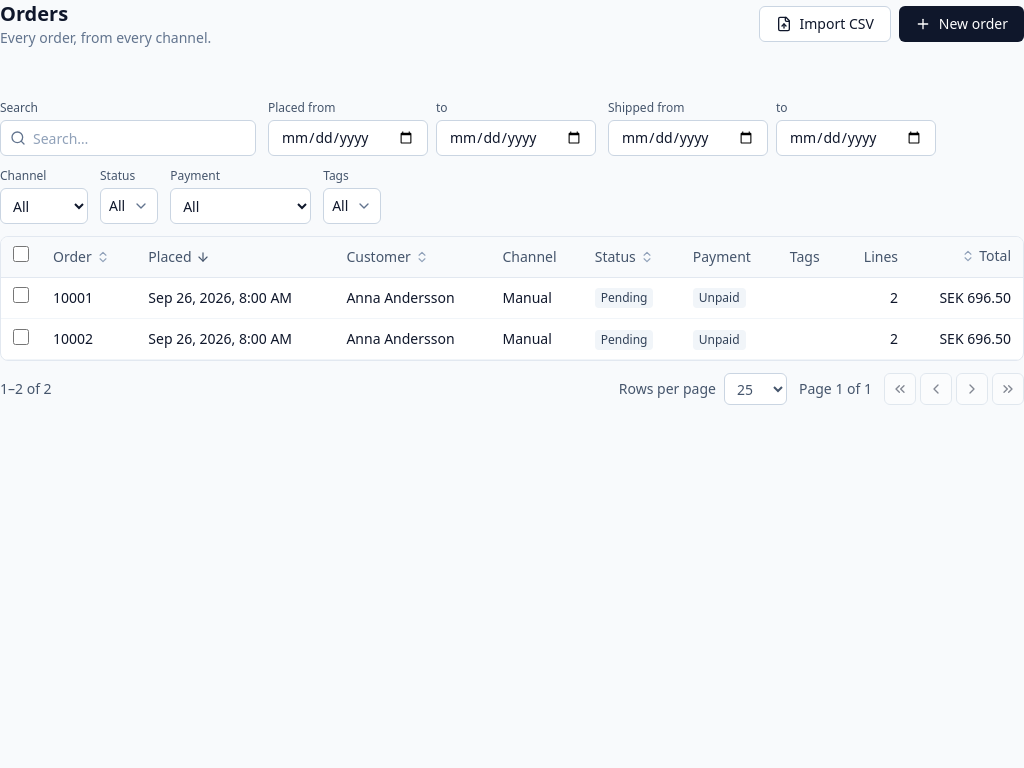
Test: the order list › tags the selected orders from the bulk-action bar
Expected: the link "10001" is shown, left=53, top=288, right=93, bottom=307
Click the checkbox named "10001": (21, 295) left=13, top=287, right=29, bottom=303
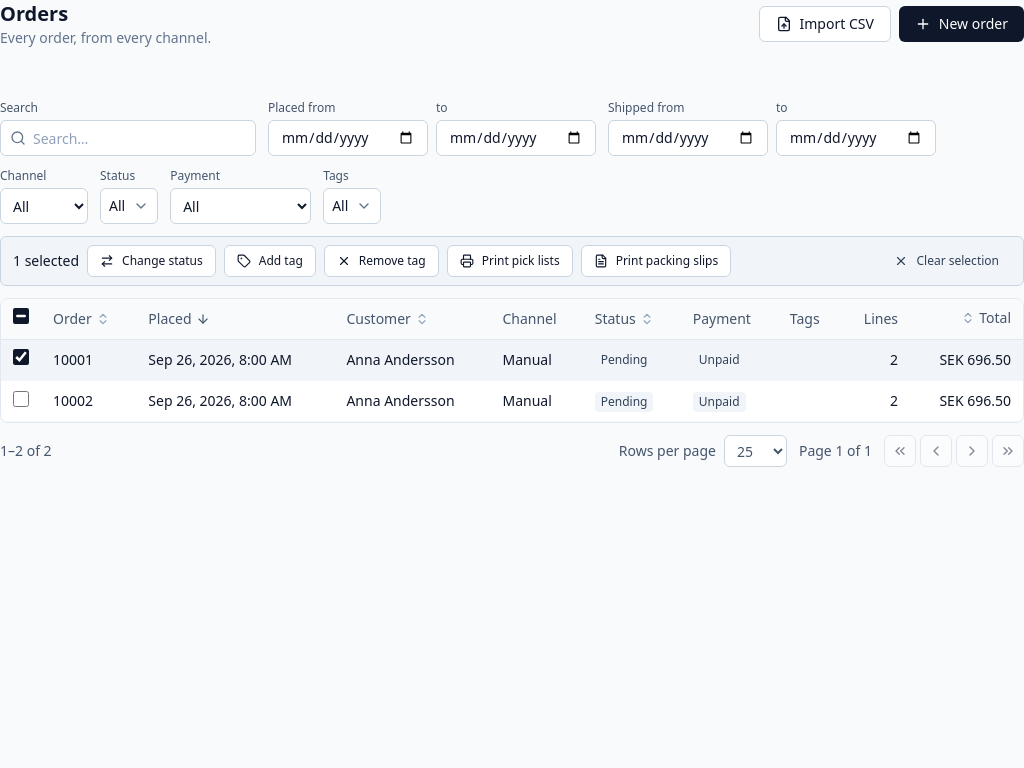
Click the checkbox named "10002": (21, 398) left=13, top=390, right=29, bottom=406
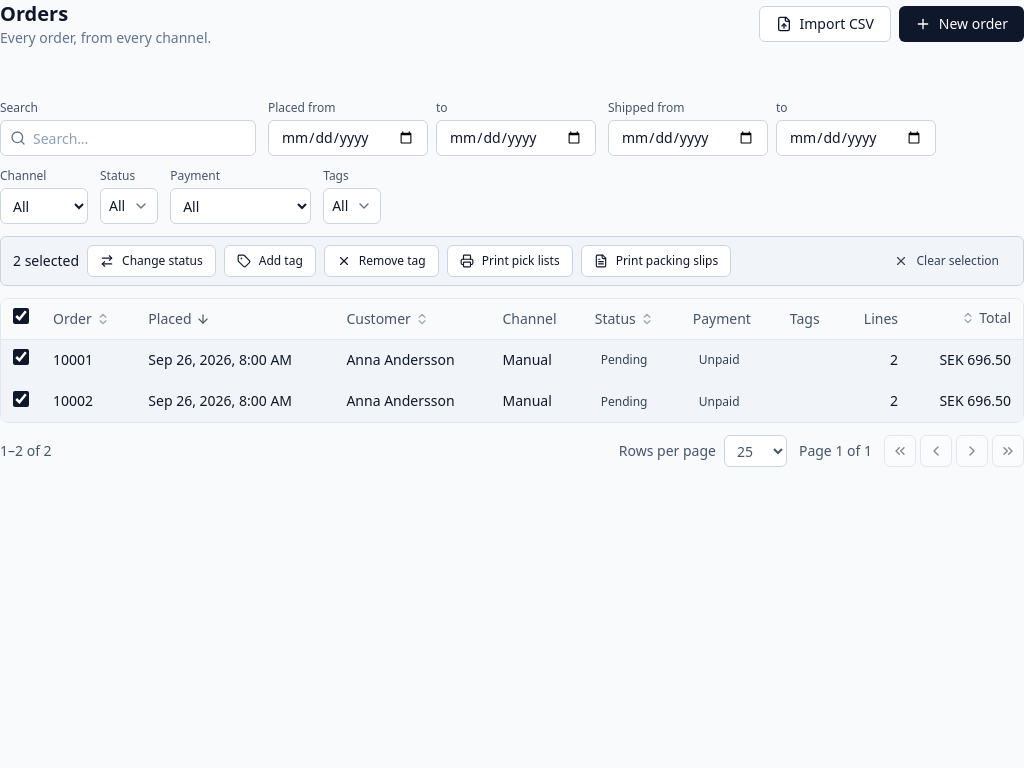
Click the button "Add tag": (270, 261) left=224, top=245, right=316, bottom=277
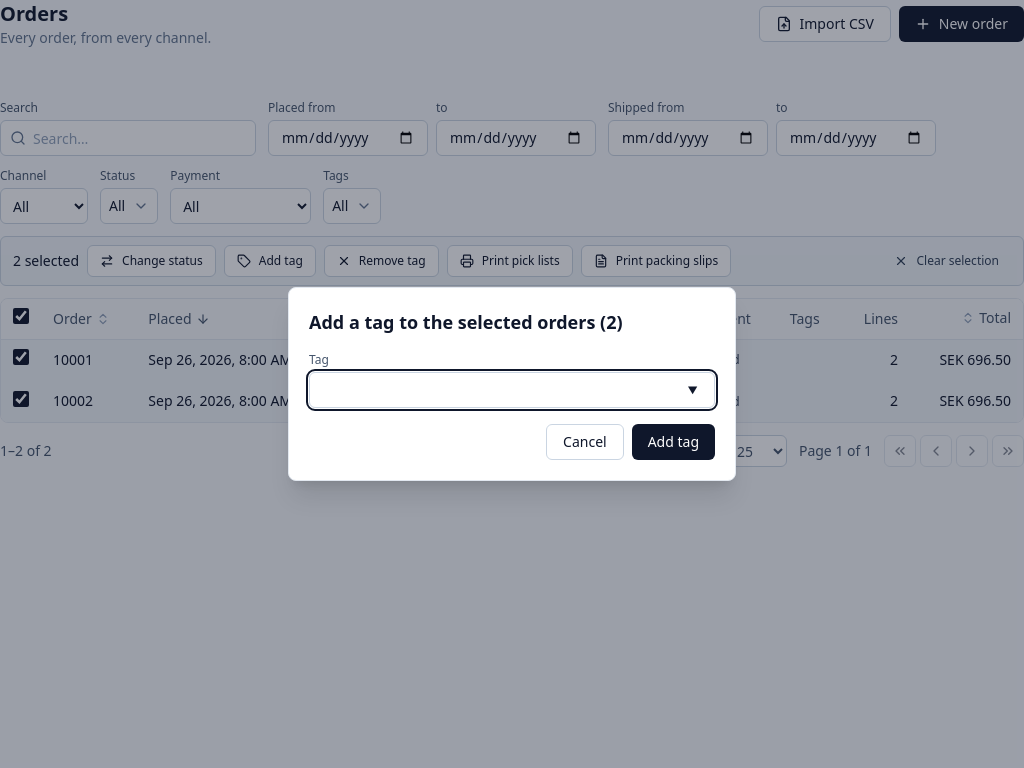
In the field labelled "Tag": (512, 390) left=309, top=372, right=715, bottom=408, type "a,b"
Click the button "Add tag": (673, 442) left=632, top=424, right=715, bottom=460
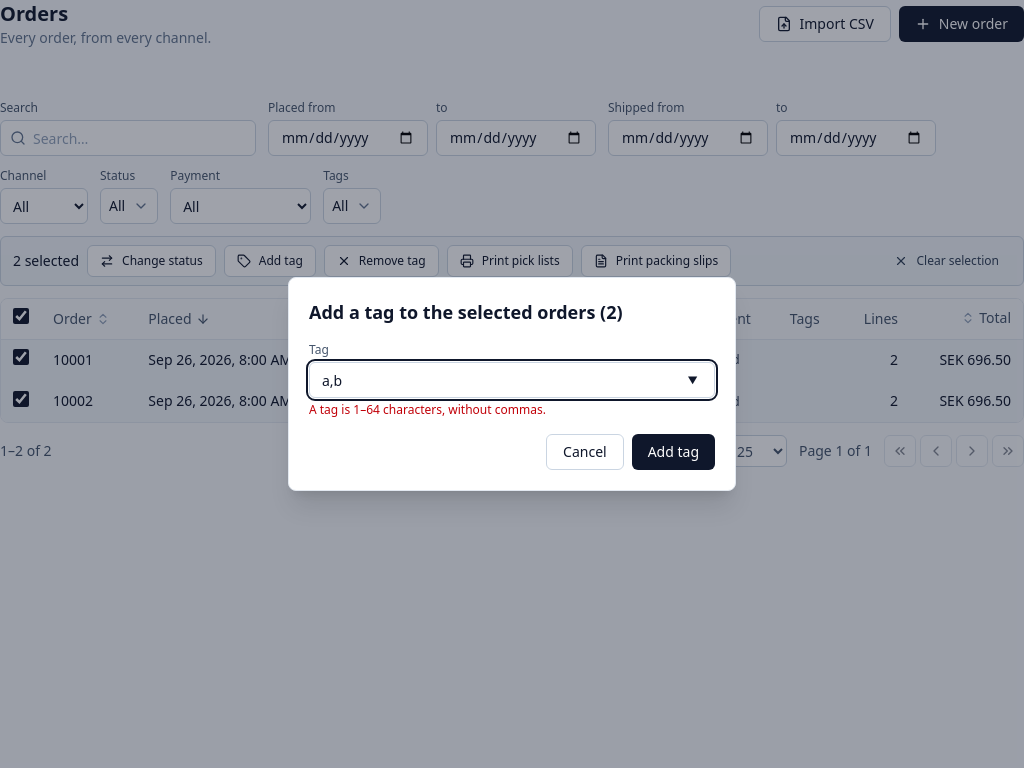
Expected: the text "A tag is 1–64 characters, without commas." is shown, left=309, top=401, right=546, bottom=418
Replace the text in the field labelled "Tag" with "  Rush ": (512, 380) left=309, top=362, right=715, bottom=398
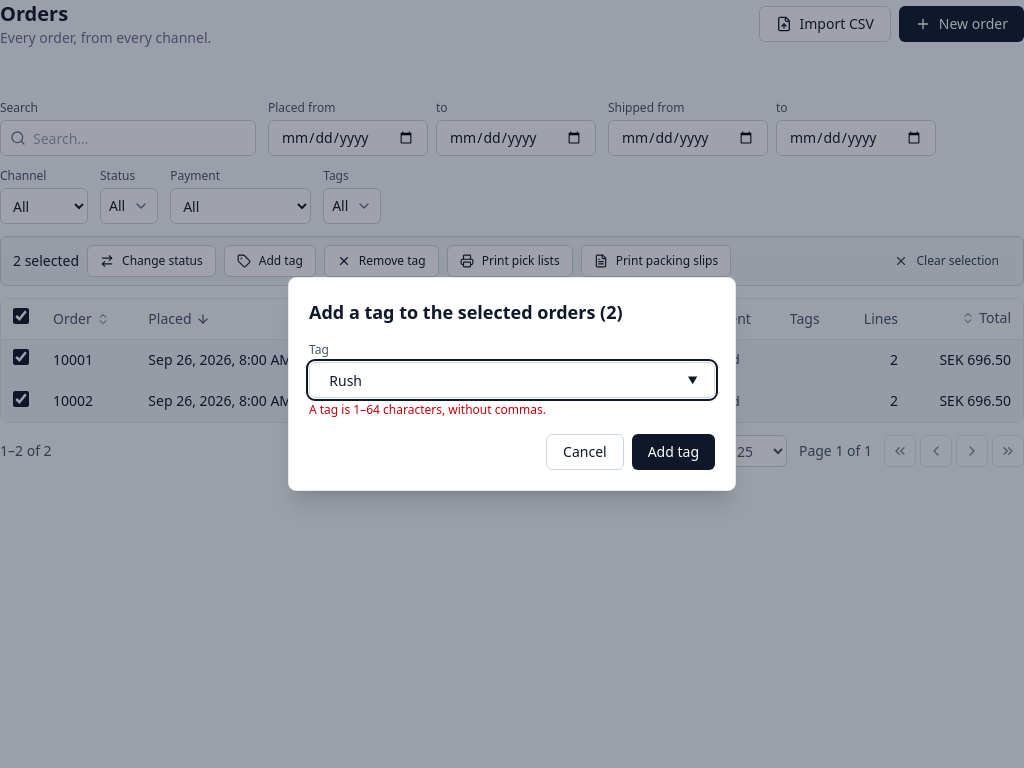
Click the button "Add tag": (673, 452) left=632, top=434, right=715, bottom=470
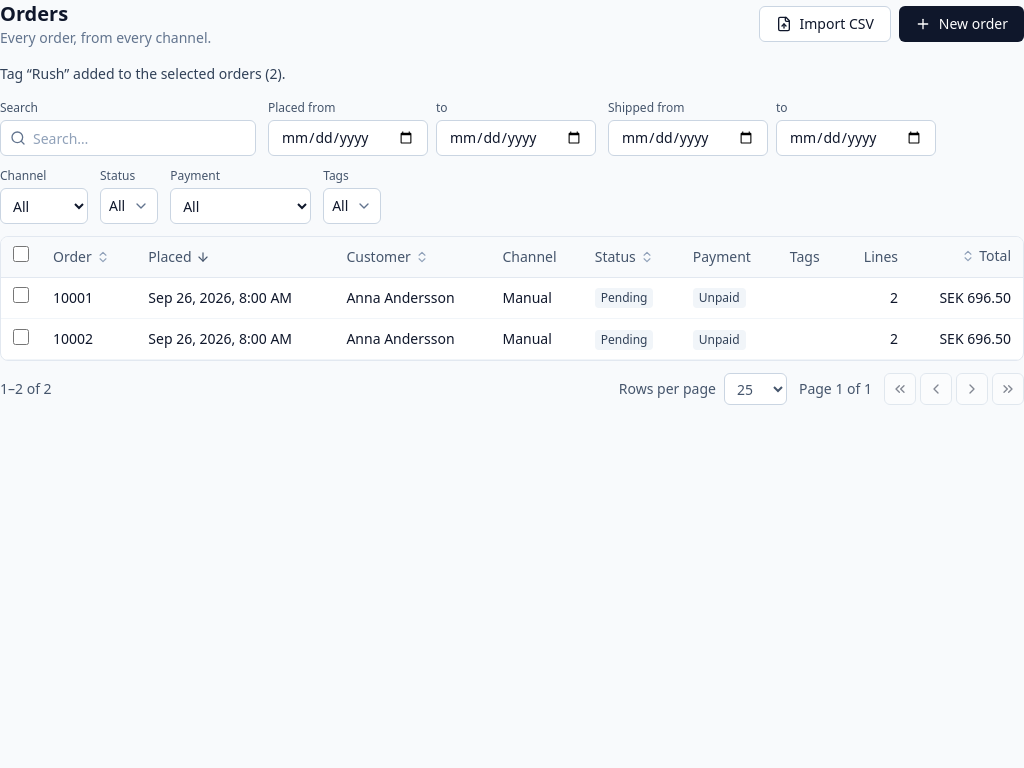
Expected: the text "Tag “Rush” added to the selected orders (2)." is shown, left=0, top=64, right=286, bottom=83
